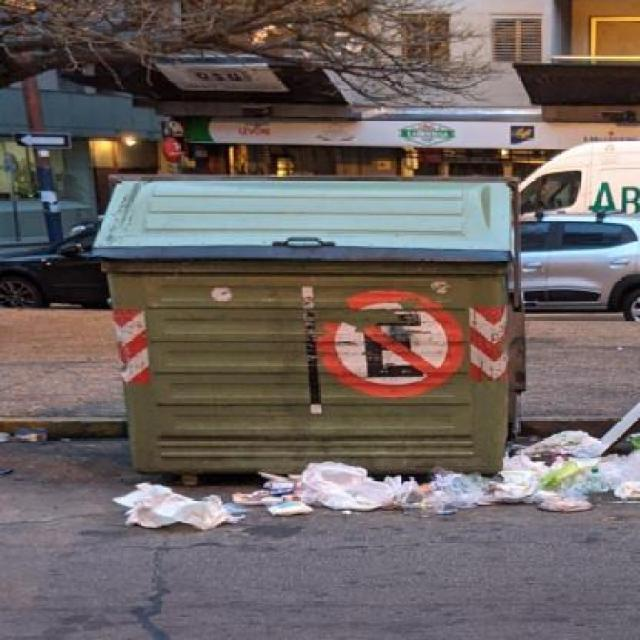garbage: (0, 416, 639, 570)
